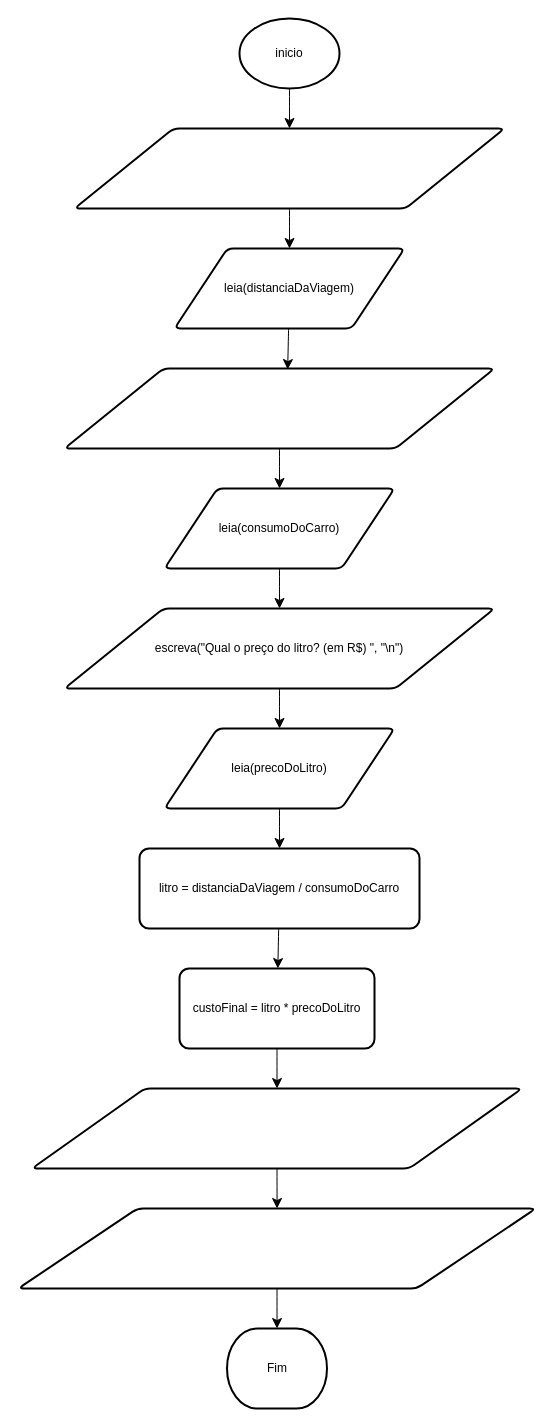
Some shapes in this 554 by 1426 pixel diagram are drawn without their labels. The shapes that lost their labels are listed below. From the top down, each one's centre as x and y in pixels, then its label:
(289,168): escreva("Qual a distância da viagem? (em km) ", "\n")
(279,408): escreva("Qual o consumo do carro? (km por litro) ", "\n")
(276,1128): escreva("Nessa viagem o carro precisará de ", litro, "litros! ", "\n")
(276,1248): escreva("O custo final para essa viagem será de R$", custoFinal, "\n")
